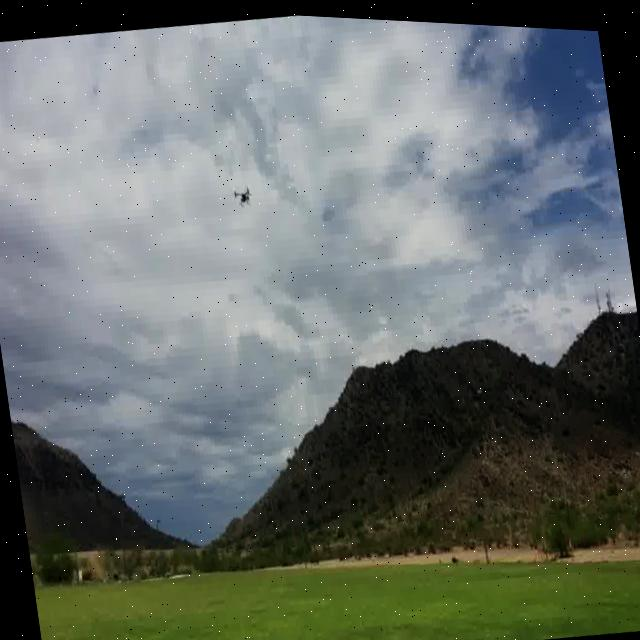drone: (232, 182, 254, 207)
